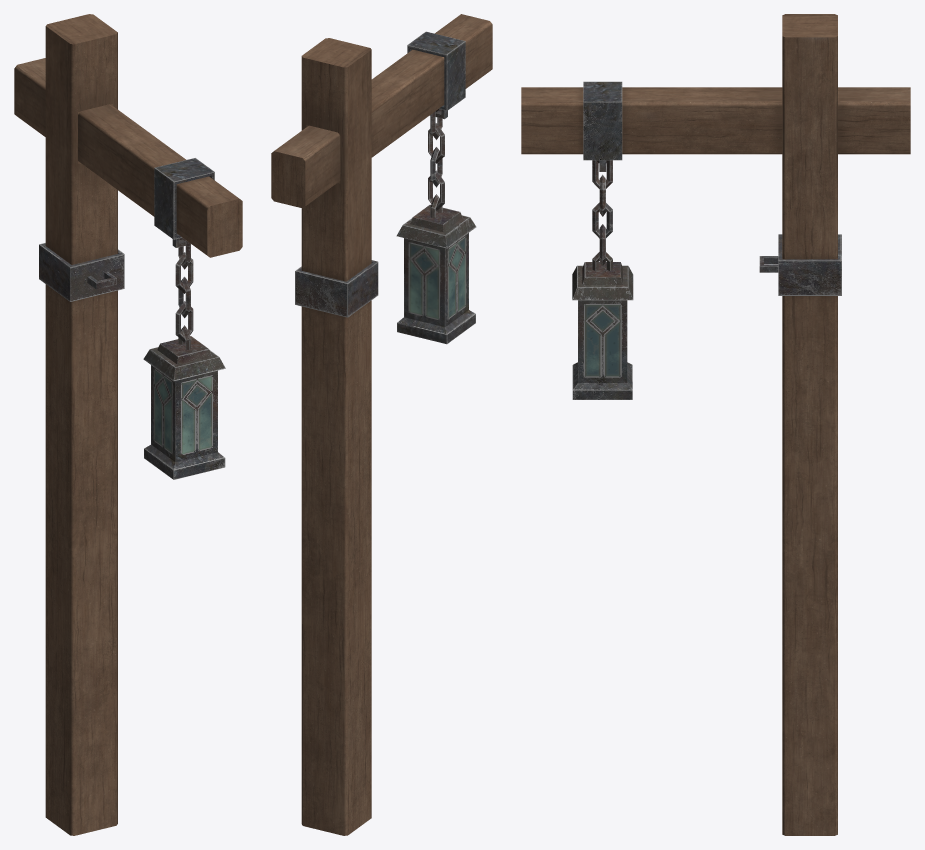
The model's file is lightpost.fbx.
3 views of the same model, side by side, from view 1: azimuth 30°, elevation 25°; view 2: azimuth 150°, elevation 25°; view 3: azimuth 270°, elevation 25° (orthographic). The views are drawn at different scales.
Parts seen in each view (by area): view 1: lightpost; view 2: lightpost; view 3: lightpost.
Boxes of the visible parts, bbox=[...] form: lightpost: bbox=[14, 14, 242, 835]; lightpost: bbox=[271, 14, 492, 835]; lightpost: bbox=[521, 14, 910, 835].
Bounding box in the file's own units: 31.16 × 433 × 191.
